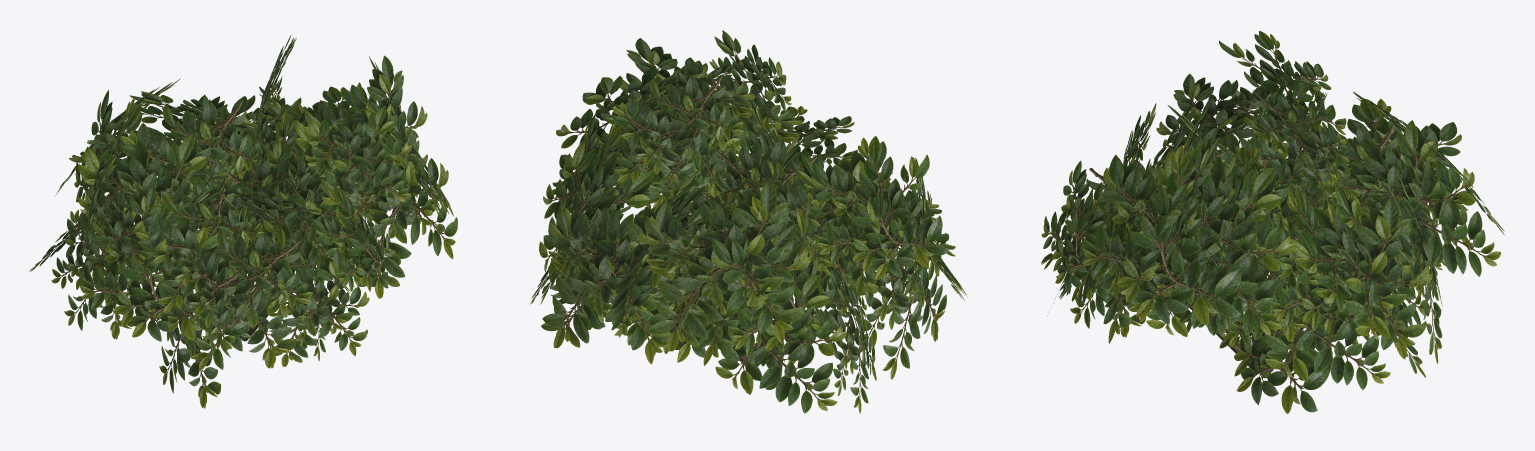
File: shrub_01.glb
3 renders of one model, left to right at view 1: azimuth 30°, elevation 25°; view 2: azimuth 150°, elevation 25°; view 3: azimuth 270°, elevation 25°, orthographic. The views are drawn at different scales.
Parts seen in each view (by area): view 1: shrub_01; view 2: shrub_01; view 3: shrub_01.
Part boxes in pixels (x1=…): shrub_01: x1=29, y1=35, x2=457, y2=408; shrub_01: x1=530, y1=30, x2=967, y2=413; shrub_01: x1=1041, y1=30, x2=1504, y2=413.
Size of the model in its own units: 2.45 by 1.72 by 2.48.
2 materials, 2 textured.
